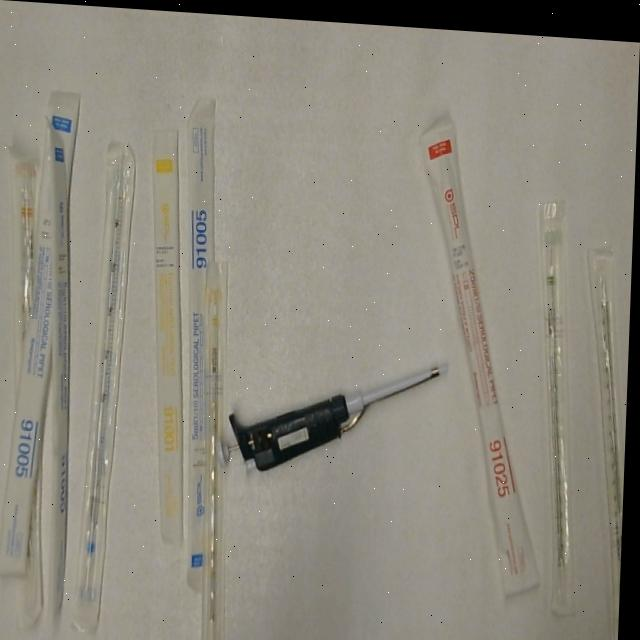Serelogical Pipet 1 mL - Sealed: (139, 124, 200, 546), (193, 249, 244, 640)
Serelogical Pipet 10 mL - Sealed: (3, 148, 48, 397)
Serelogical Pipet 2 mL - Sealed: (527, 187, 590, 621)
Serelogical Pipet 25 mL - Sealed: (405, 107, 560, 599)
Serelogical Pipet 5 mL - Sealed: (0, 79, 85, 582), (76, 130, 141, 632), (171, 90, 233, 591), (31, 111, 83, 635)
Single Channel Pipettor: (215, 338, 454, 485)
